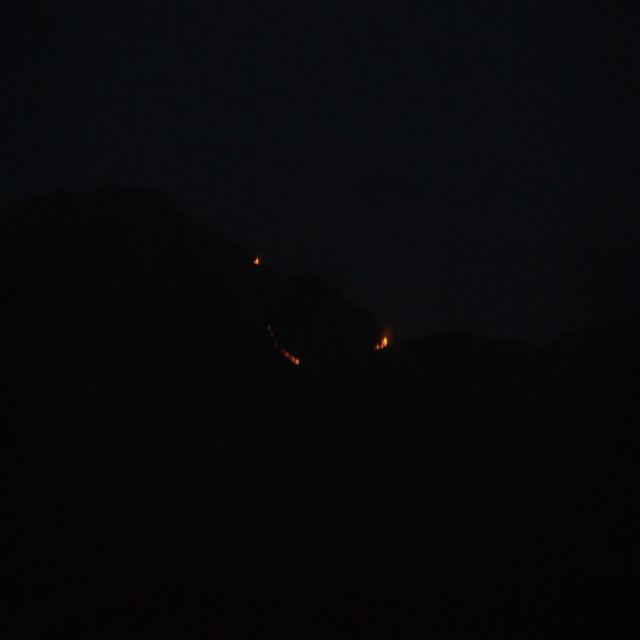Fire: (374, 332, 388, 352)
